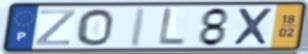8: (197, 5, 231, 48)
I: (127, 6, 149, 48)
L: (156, 7, 187, 47)
O: (76, 7, 115, 47)
X: (231, 7, 275, 47)
Z: (33, 8, 78, 47)
